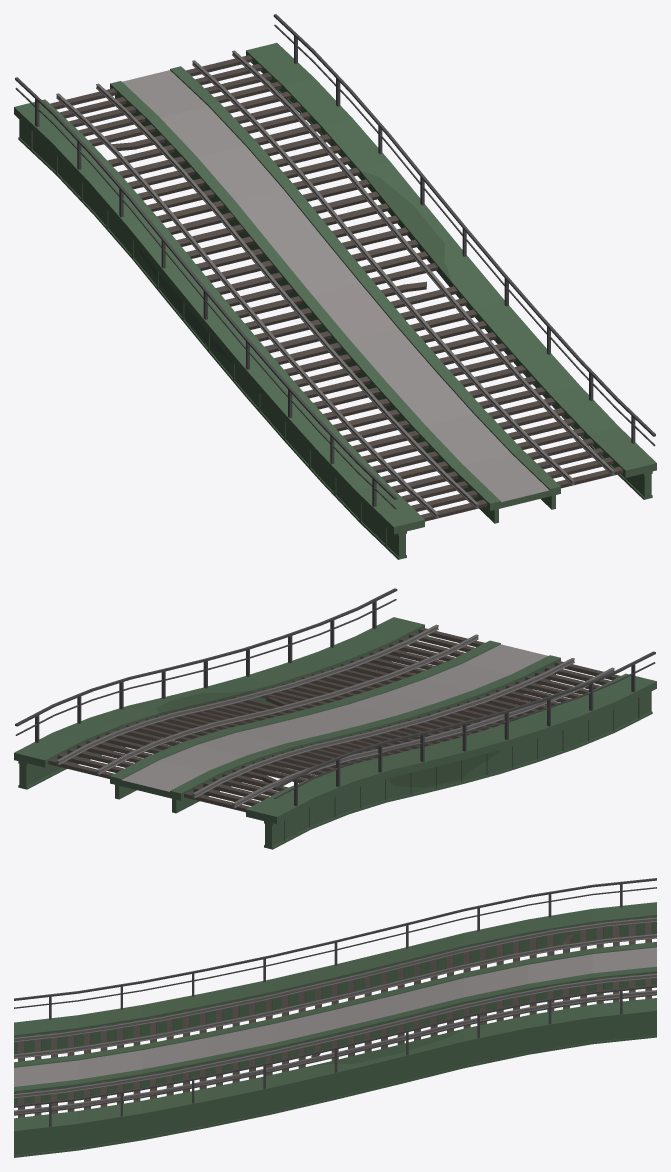
Rendered from SM_Train_Track_Aboveground_Bridge_Steel_Start.fbx.
The picture shows the model from 3 angles, top to bottom: view 1: azimuth 30°, elevation 25°; view 2: azimuth 150°, elevation 25°; view 3: azimuth 270°, elevation 25°; orthographic projection. The views are drawn at different scales.
Visible parts, largest first — view 1: SM_Train_Track_Aboveground_Bridge_Steel_Start; view 2: SM_Train_Track_Aboveground_Bridge_Steel_Start; view 3: SM_Train_Track_Aboveground_Bridge_Steel_Start.
Part boxes in pixels (x1,y1,x2,y2): SM_Train_Track_Aboveground_Bridge_Steel_Start: (14,14,656,559); SM_Train_Track_Aboveground_Bridge_Steel_Start: (14,588,656,849); SM_Train_Track_Aboveground_Bridge_Steel_Start: (14,878,656,1157).
Bounding box in the file's own units: 1200 × 893 × 3000.
